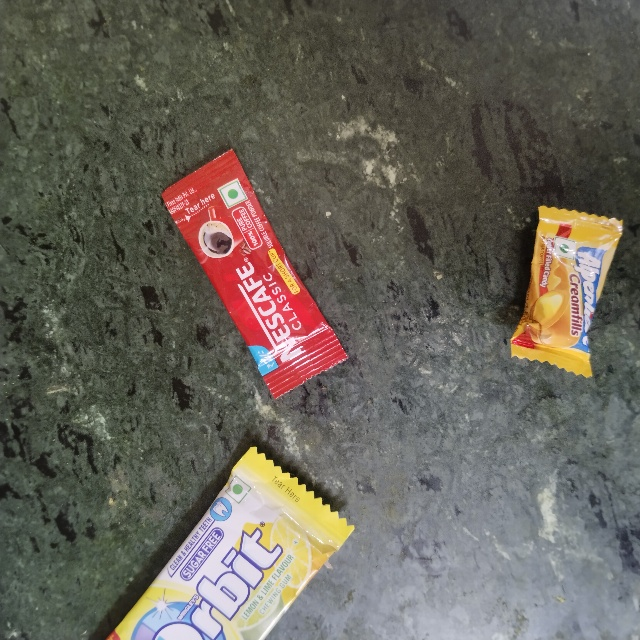Alpenlibe Creamfills: (546, 202, 620, 356)
Nescafe Coffee: (155, 199, 245, 436)
Orbit: (254, 442, 390, 587)
